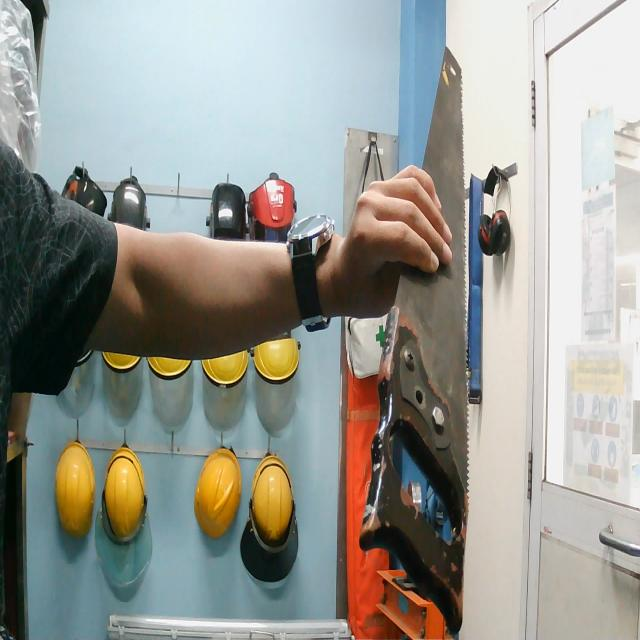gergaji_kayu: (333, 31, 481, 639)
